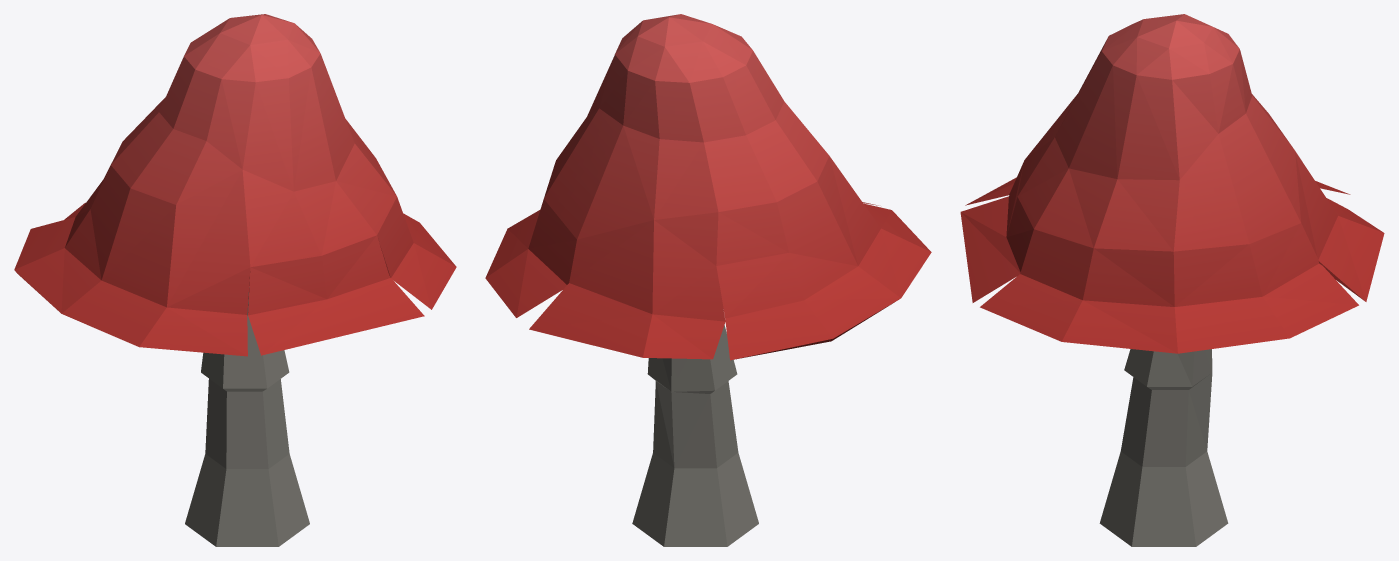
File: Mushroom_03.fbx
3 views of the same model, side by side, from view 1: azimuth 30°, elevation 25°; view 2: azimuth 150°, elevation 25°; view 3: azimuth 270°, elevation 25° (orthographic). The views are drawn at different scales.
Visible parts, largest first — view 1: Mushroom_03; view 2: Mushroom_03; view 3: Mushroom_03.
Boxes of the visible parts, box(x1,y1,x2,y2) form: Mushroom_03: box(14, 14, 456, 546); Mushroom_03: box(485, 14, 931, 546); Mushroom_03: box(960, 14, 1384, 546).
Size of the model in its own units: 0.4913 by 0.628 by 0.4705.
